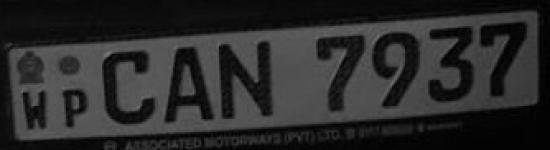3: (426, 25, 479, 109)
7: (310, 30, 369, 117), (480, 17, 532, 106)
9: (370, 28, 425, 113)
A: (161, 42, 215, 124)
C: (98, 45, 159, 129)
N: (216, 38, 284, 126)
P: (60, 86, 94, 134)
W: (19, 90, 54, 133)
